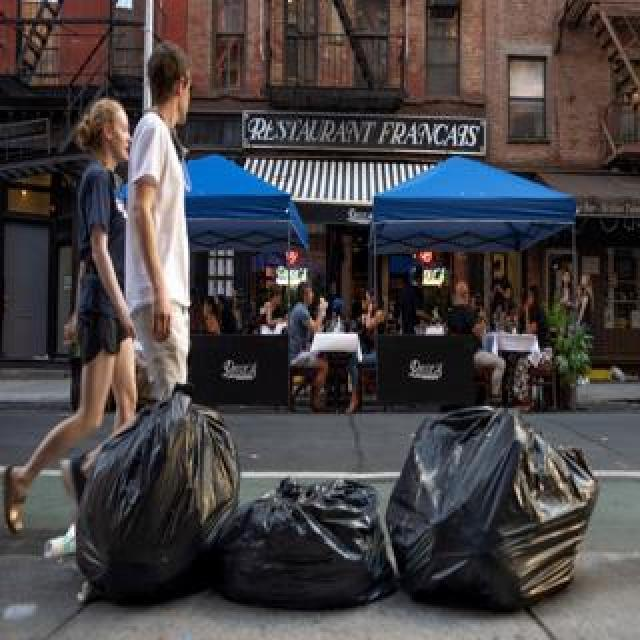Trashbag: (383, 397, 609, 611), (68, 383, 245, 616), (206, 472, 406, 608)
